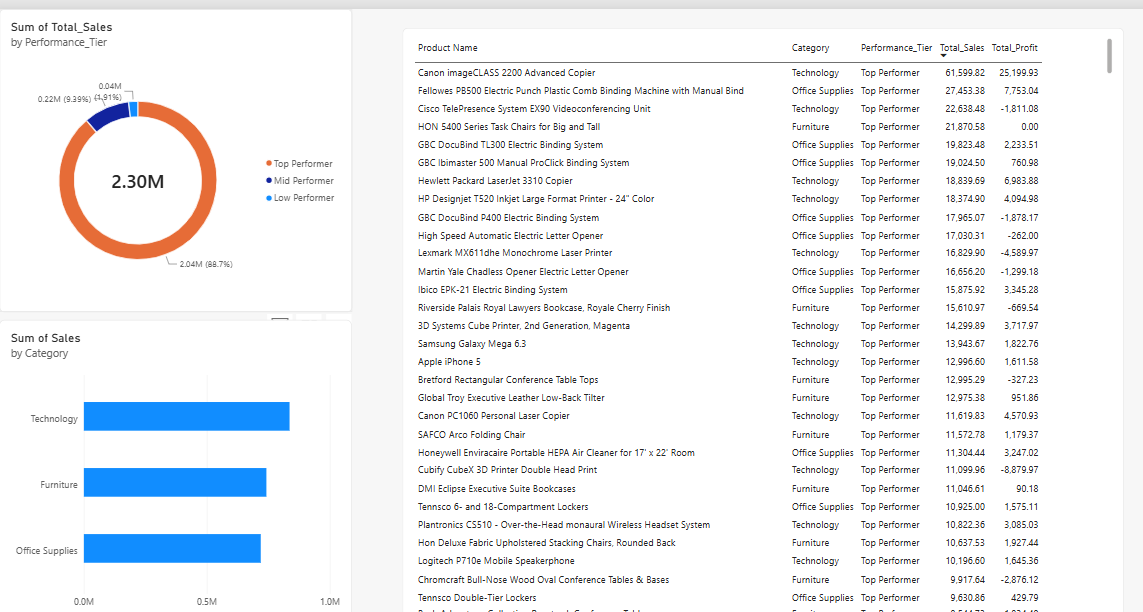

This screenshot's page, from the dashboard's own definition file:
{"tool":"powerbi","page":{"name":"Page 1","canvas":[1920,1080],"ordinal":0},"visuals":[{"type":"donutChart","fields":{"Category":["product_performance_summary.Performance_Tier"],"Y":["Sum(product_performance_summary.Total_Sales)"]},"box":[9.4,0,526.3,452.7],"z":0},{"type":"clusteredBarChart","fields":{"Category":["Sample - Superstore.Category"],"Y":["Sum(Sample - Superstore.Sales)"]},"box":[9,463,526,453],"z":1},{"type":"tableEx","fields":{"Values":["product_performance_summary.Product Name","product_performance_summary.Category","product_performance_summary.Performance_Tier","product_performance_summary.Total_Sales","product_performance_summary.Total_Profit"]},"box":[610.9,28.2,1076.1,906.9],"z":2}]}

Visuals, with their boxes on the page's 1920x1080 design canvas (x1, y1, x2, y2). These are canvas units, not pixel positions in the 1143x612 screenshot, which may show the page scaled, cropped or inside an application window:
donutChart - product_performance_summary.Performance_Tier x Sum(product_performance_summary.Total_Sales): (left=9, top=0, right=536, bottom=453)
clusteredBarChart - Sample - Superstore.Category x Sum(Sample - Superstore.Sales): (left=9, top=463, right=535, bottom=916)
tableEx - product_performance_summary.Product Name x product_performance_summary.Category: (left=611, top=28, right=1687, bottom=935)
